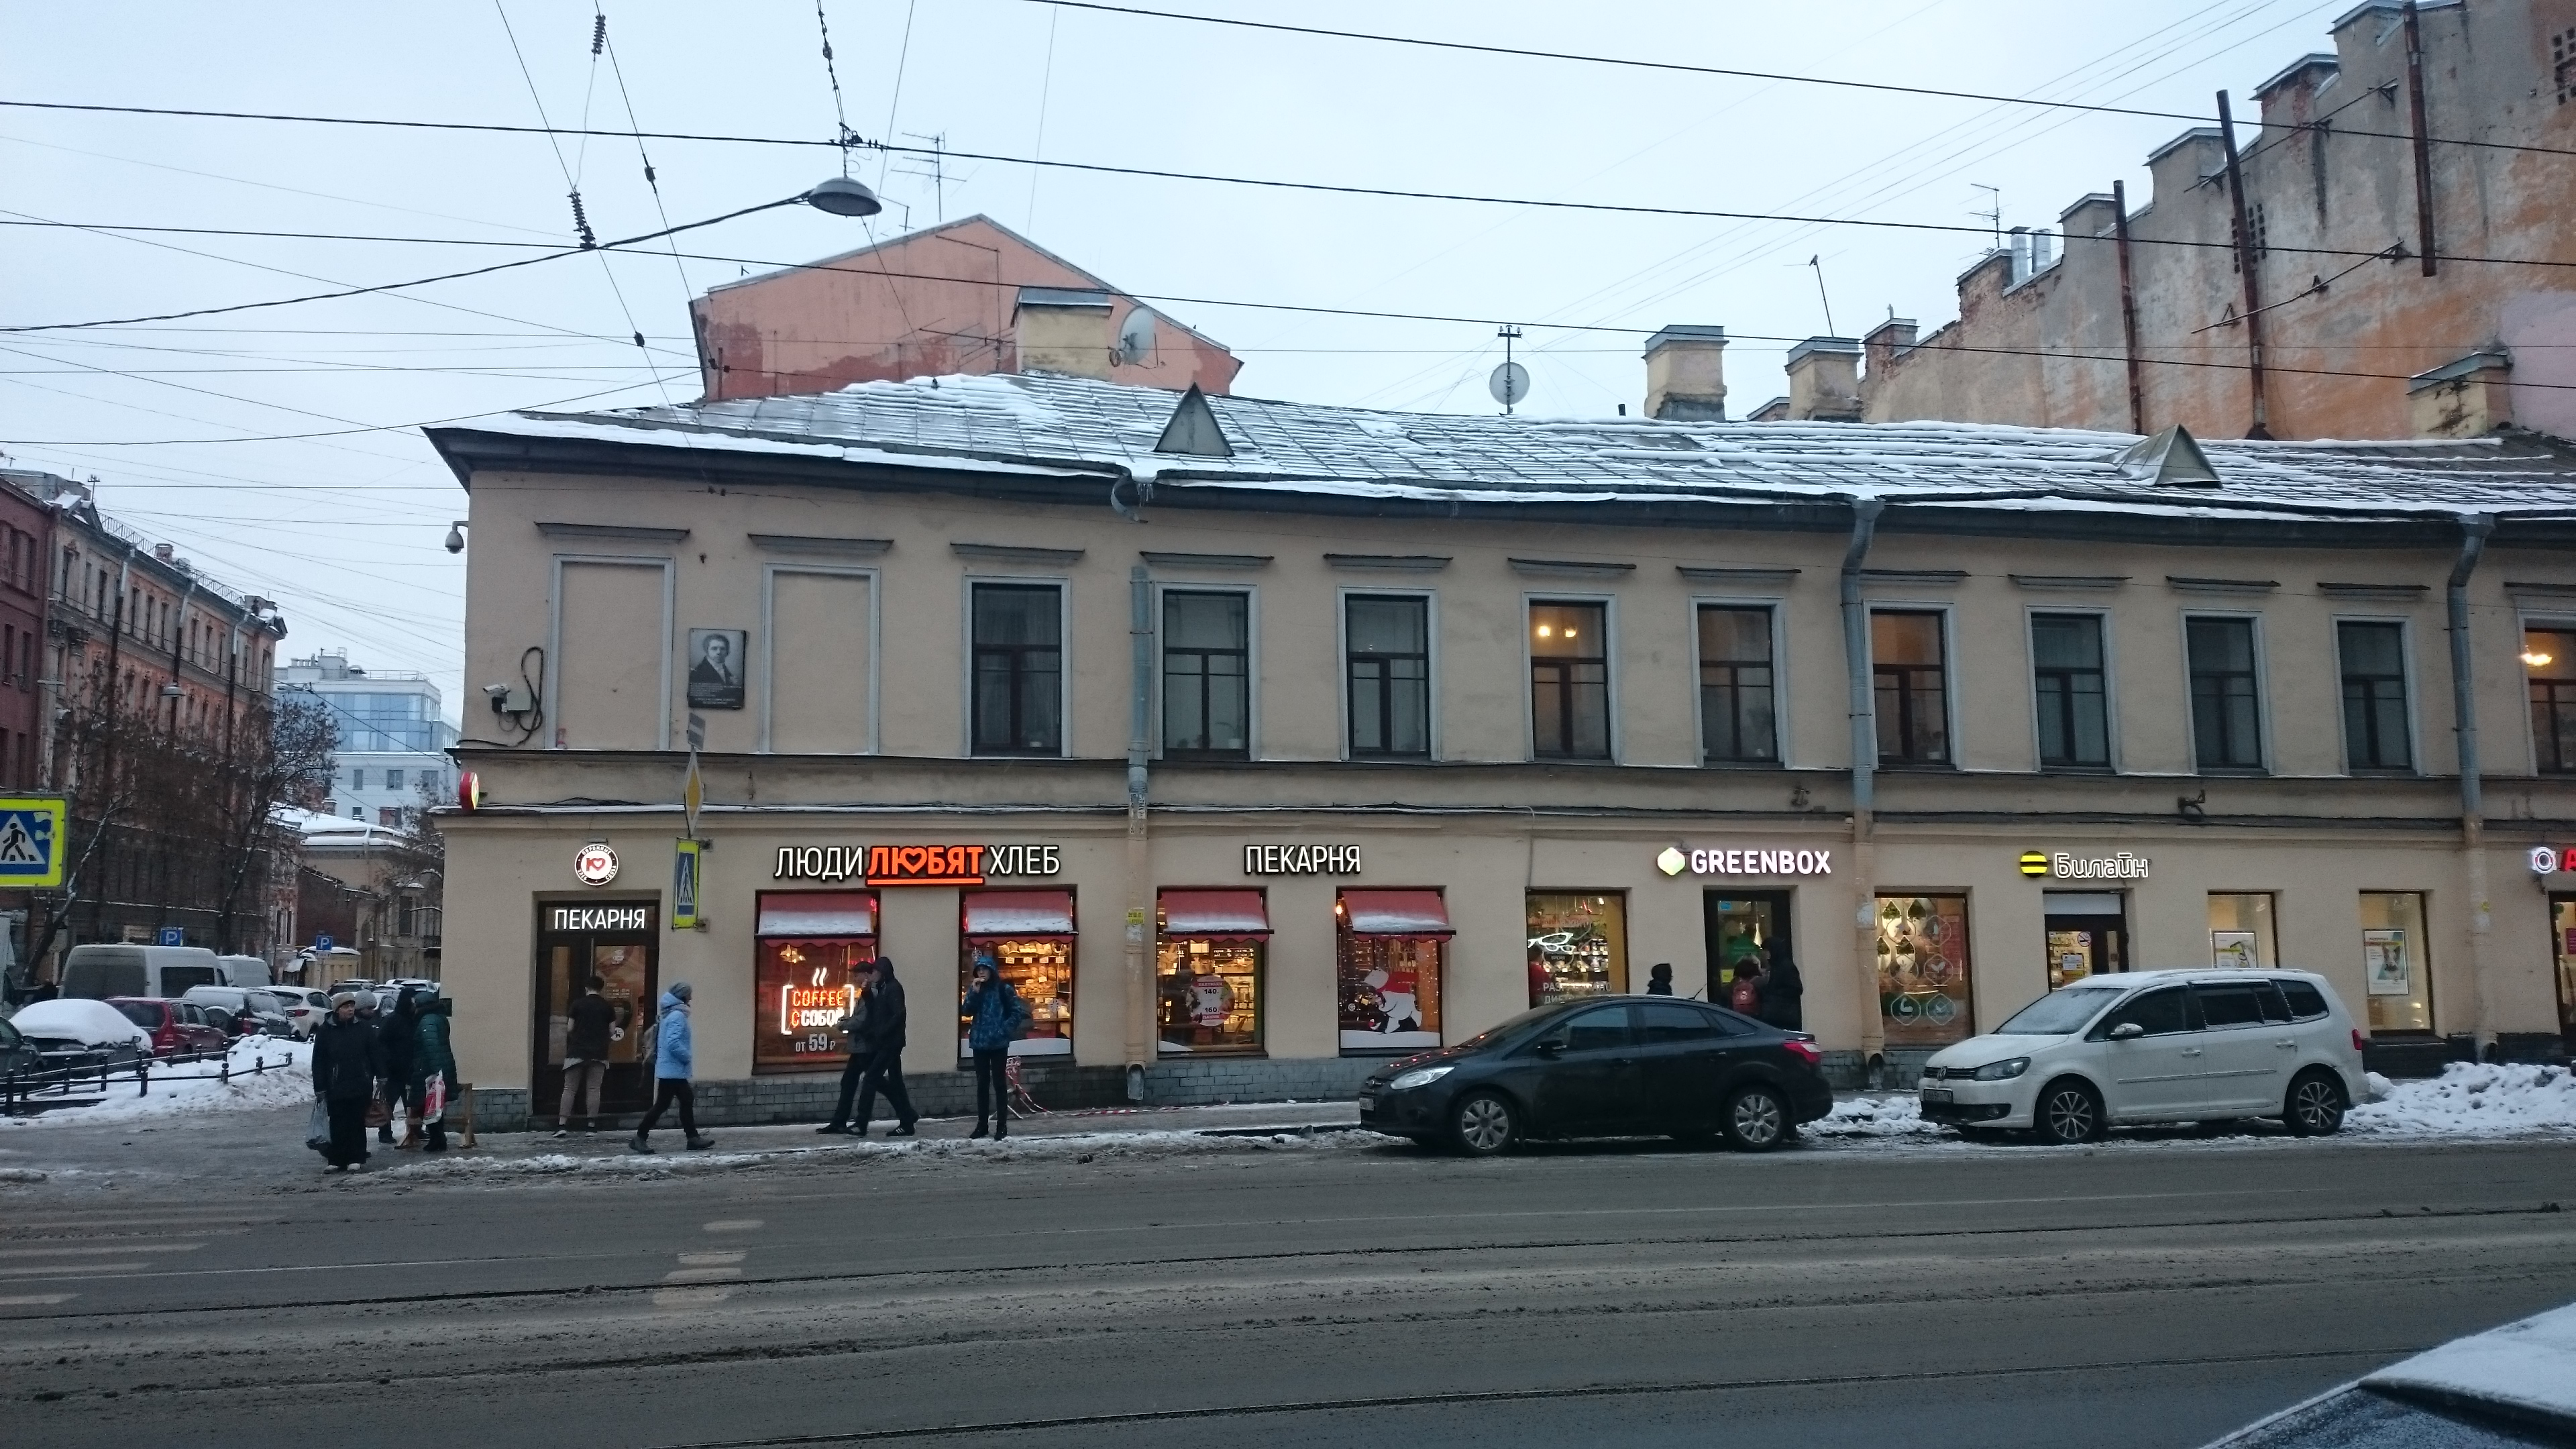signboard: (770, 846, 1060, 883), (1652, 844, 1835, 883), (2013, 847, 2155, 883), (1242, 842, 1369, 878), (568, 837, 623, 885)
win_ad: (775, 959, 860, 1053), (552, 908, 653, 931)
window: (947, 883, 1088, 1063), (1146, 883, 1270, 1063), (1336, 888, 1453, 1062), (766, 893, 874, 1072), (1343, 591, 1435, 778), (1155, 579, 1246, 766), (1523, 594, 1619, 771), (1872, 596, 1967, 773), (1868, 899, 1967, 1065), (975, 584, 1069, 752), (2353, 883, 2450, 1044), (1702, 587, 1783, 777), (2189, 614, 2277, 782), (2334, 617, 2413, 796), (1520, 879, 1628, 1005), (2029, 607, 2111, 773), (2212, 892, 2289, 973)
